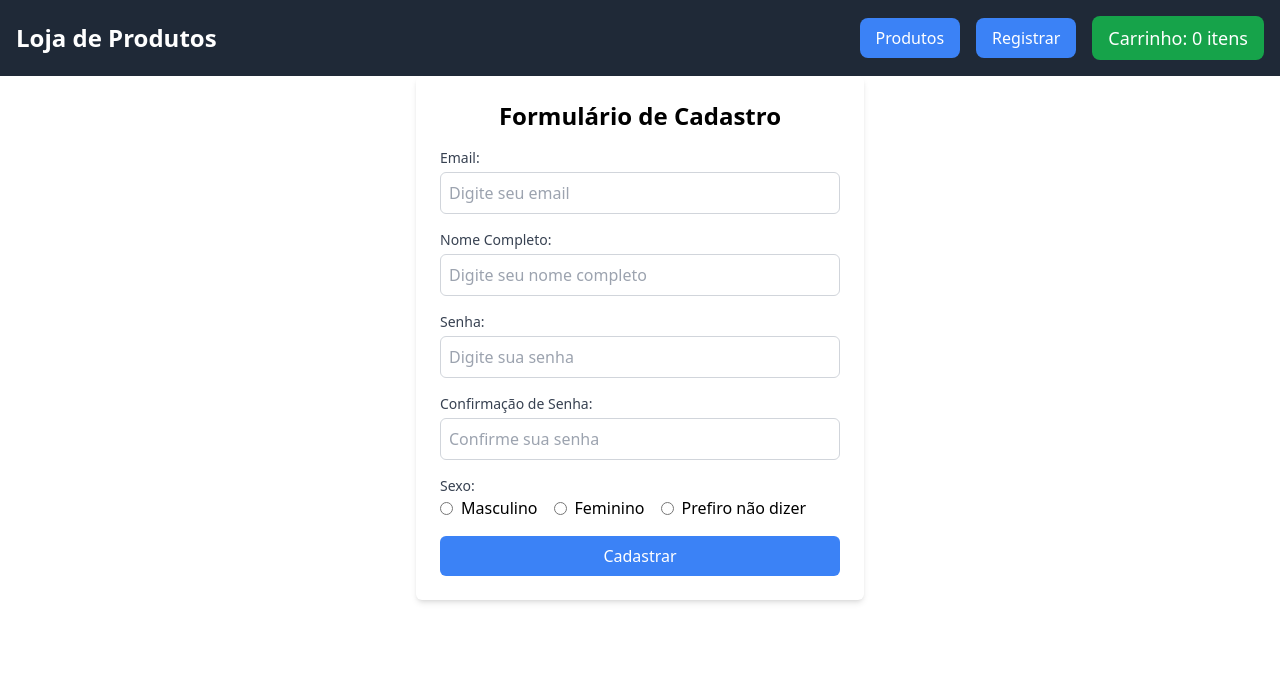
Test: Cadastro Formulário › Deve mostrar erro ao enviar o formulário vazio
This screenshot has width=1280, height=689.
Click the submit button.
click(640, 556)  # box [440, 536, 840, 576]
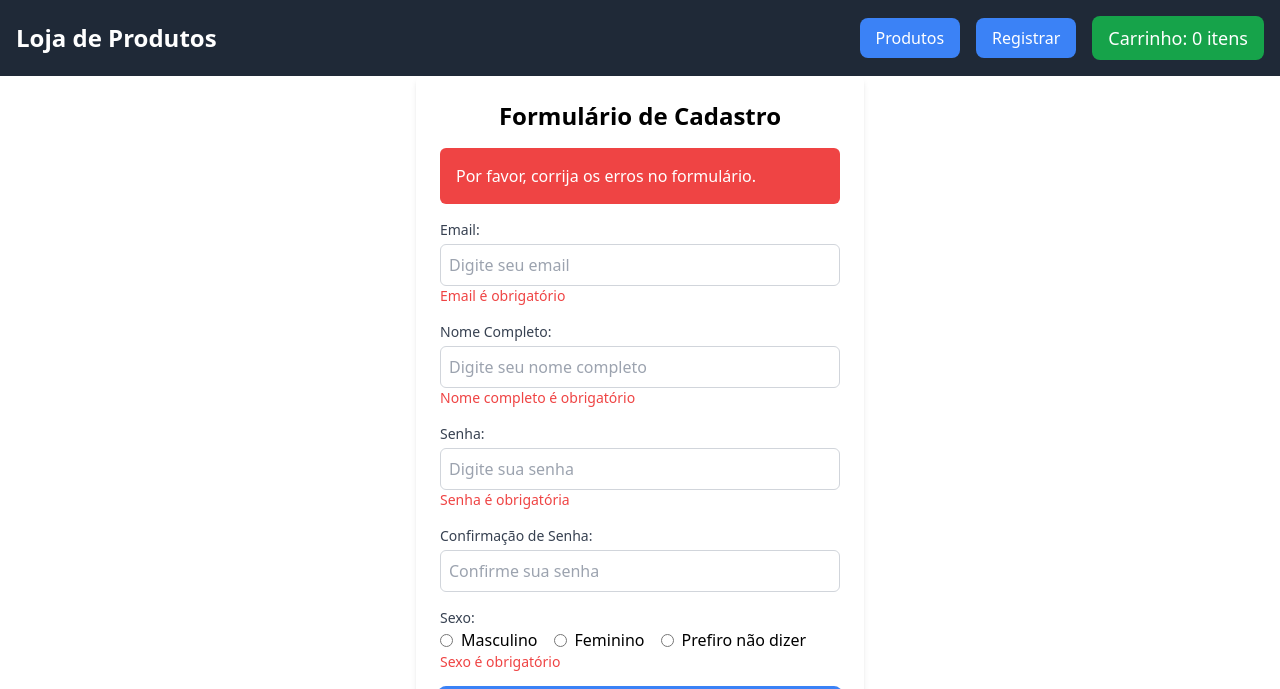
Expected: the text "Email é obrigatório" is shown, [440, 286, 566, 305]
Expected: the text "Nome completo é obrigatório" is shown, [440, 388, 635, 407]
Expected: the text "Senha é obrigatória" is shown, [440, 490, 570, 509]
